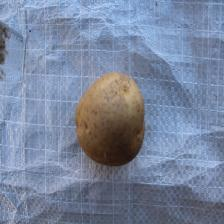Diseased-fungal potato: (72, 71, 146, 168)
